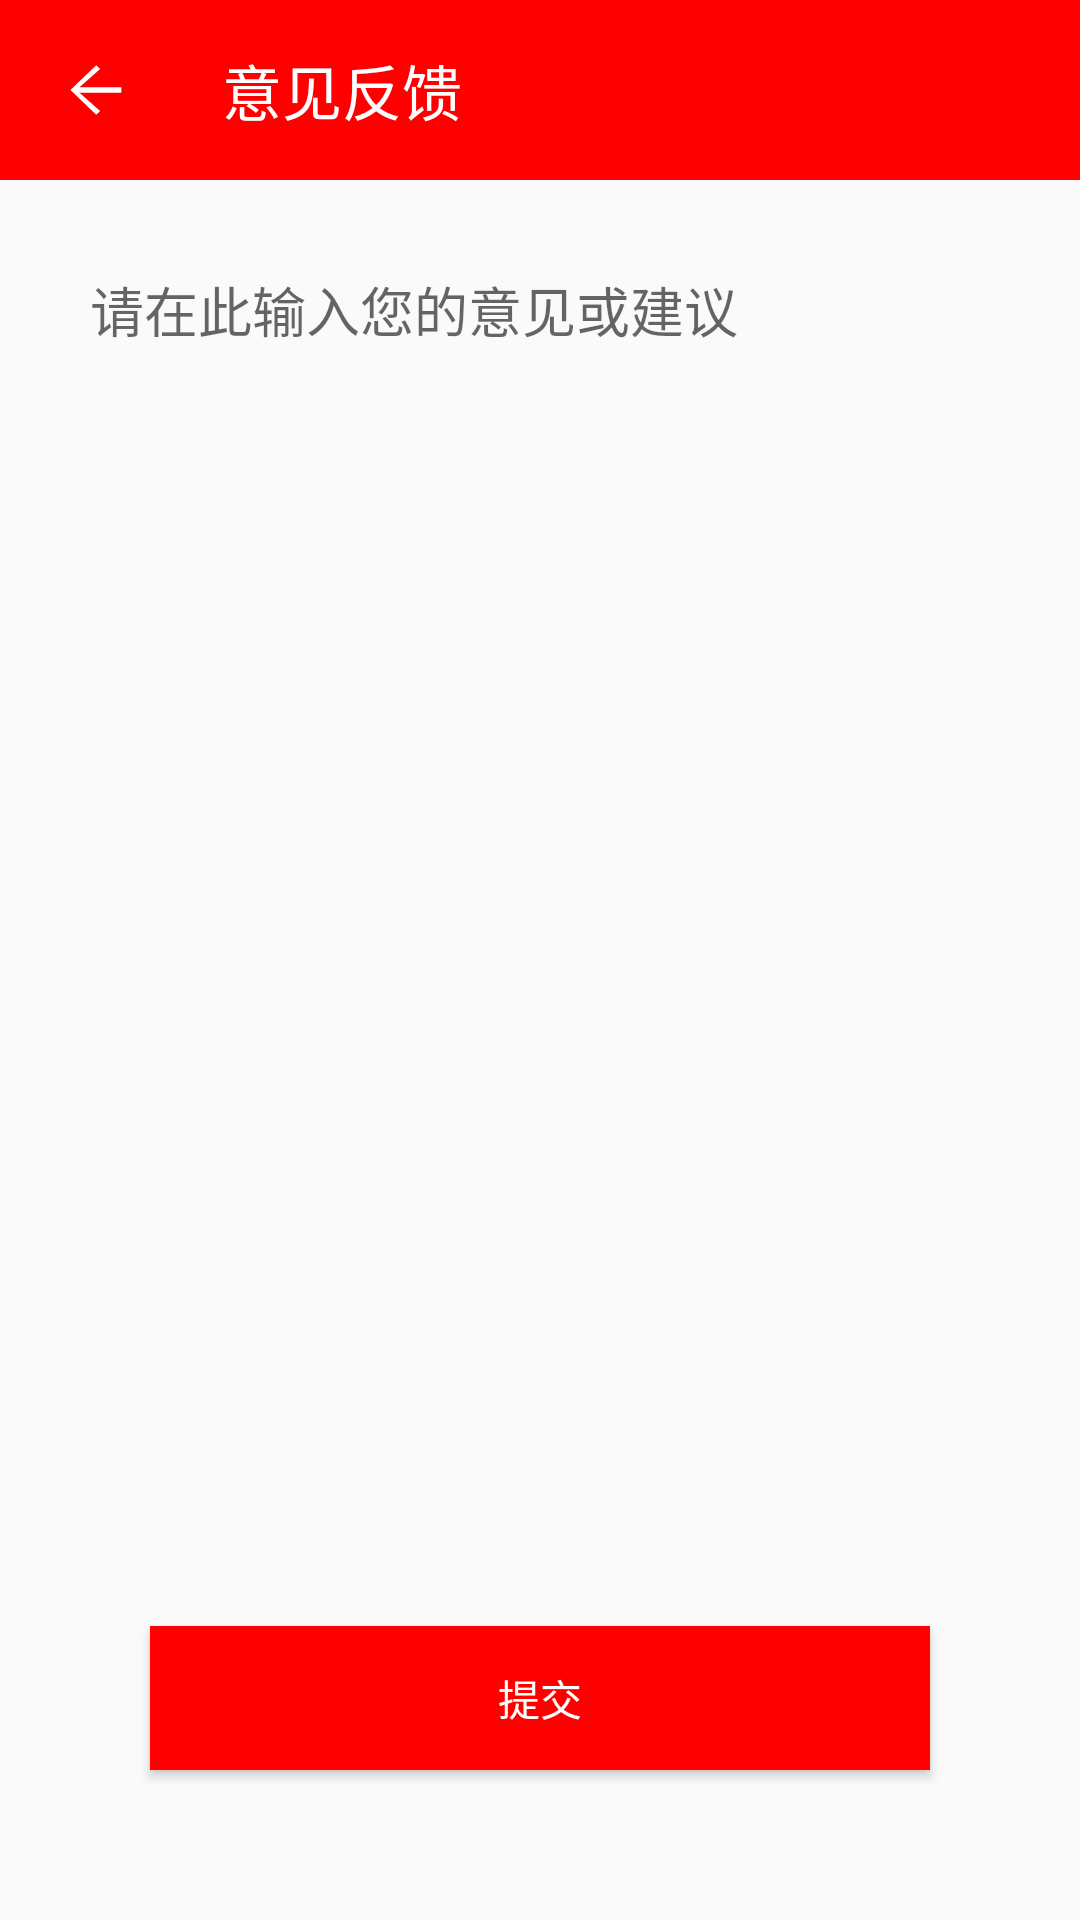

Screen size 1080px×1920px. Icon name, then its box in pixels as (left=x1, top=y1, right=x2, bottom=y2):
back: (left=70, top=65, right=122, bottom=115)
